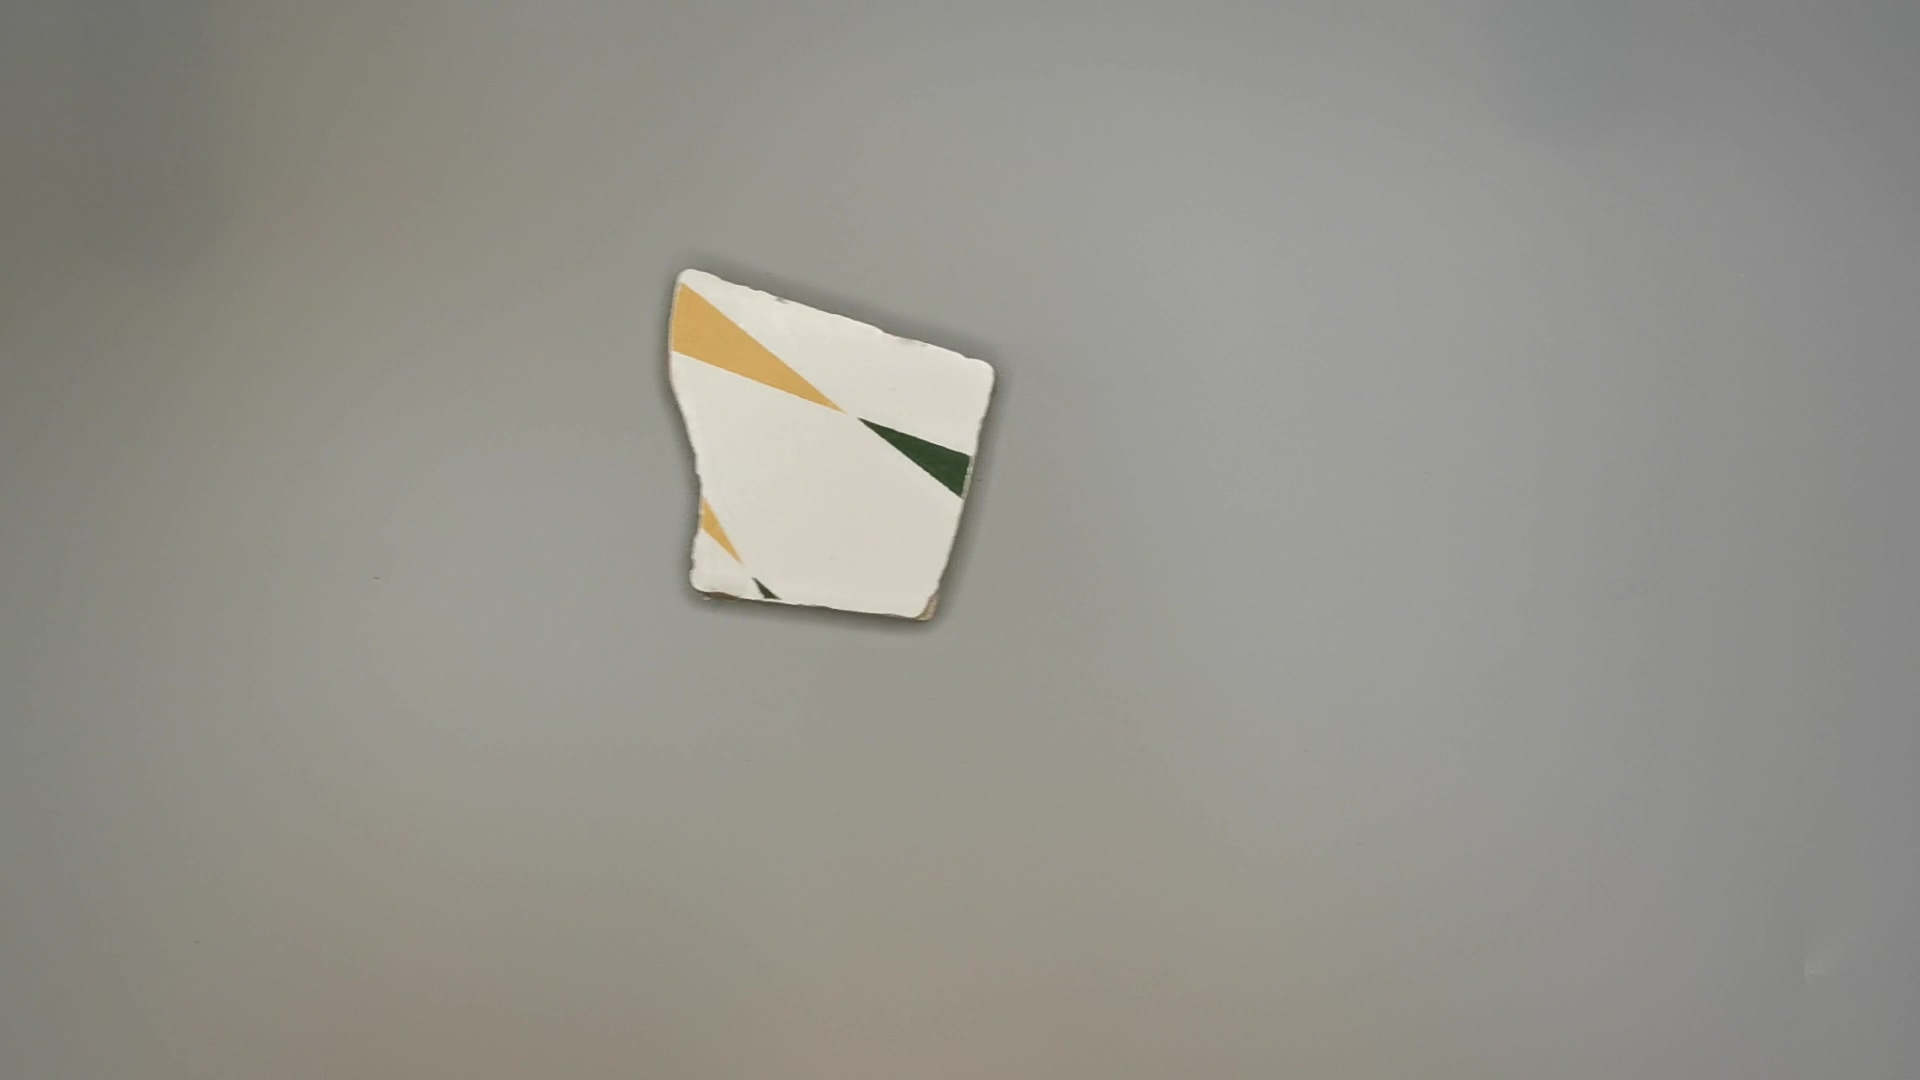ceramic: (659, 262, 1004, 632)
